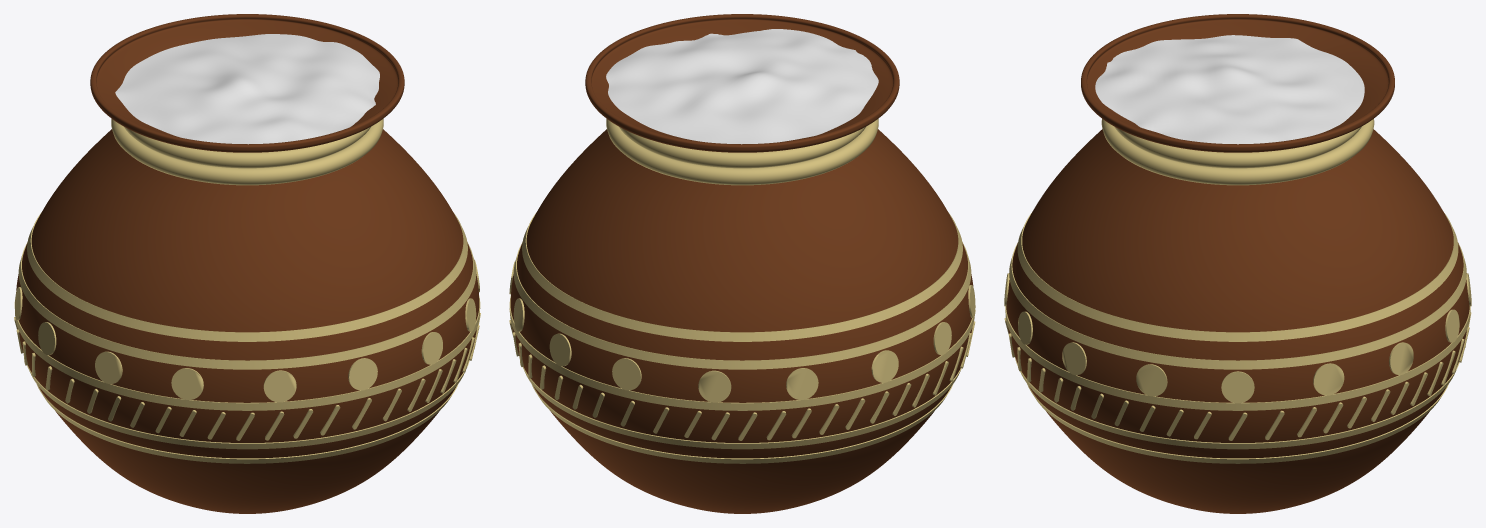
Rendered from Jarron.glb.
The picture shows the model from 3 angles, left to right: view 1: azimuth 30°, elevation 25°; view 2: azimuth 150°, elevation 25°; view 3: azimuth 270°, elevation 25°; orthographic projection.
Parts seen in each view (by area): view 1: Cylinder.020, Plane.002, Cylinder.018, Cylinder.016, Cylinder.019, Cylinder.017, Cube.010; view 2: Cylinder.020, Plane.002, Cylinder.018, Cylinder.016, Cylinder.019, Cylinder.017, Cube.010; view 3: Cylinder.020, Plane.002, Cylinder.018, Cylinder.016, Cylinder.019, Cube.010, Cylinder.017.
Part boxes in pixels (box(x1,y1,x2,y2)): Cylinder.020: box(16, 14, 479, 513); Plane.002: box(115, 34, 379, 144); Cylinder.018: box(14, 212, 480, 463); Cylinder.016: box(111, 119, 383, 185); Cylinder.019: box(15, 259, 479, 402); Cylinder.017: box(124, 127, 370, 168); Cube.010: box(14, 313, 480, 440); Cylinder.020: box(510, 14, 973, 513); Plane.002: box(606, 29, 878, 144); Cylinder.018: box(509, 212, 974, 463); Cylinder.016: box(606, 119, 878, 185); Cylinder.019: box(509, 261, 975, 402); Cylinder.017: box(619, 127, 865, 168); Cube.010: box(509, 309, 975, 440); Cylinder.020: box(1006, 14, 1469, 513); Plane.002: box(1095, 35, 1364, 144); Cylinder.018: box(1005, 213, 1470, 463); Cylinder.016: box(1101, 119, 1374, 185); Cylinder.019: box(1004, 273, 1471, 403); Cube.010: box(1004, 312, 1471, 440); Cylinder.017: box(1114, 126, 1361, 168).
Size of the model in its own units: 0.7082 by 0.6839 by 0.7082.
